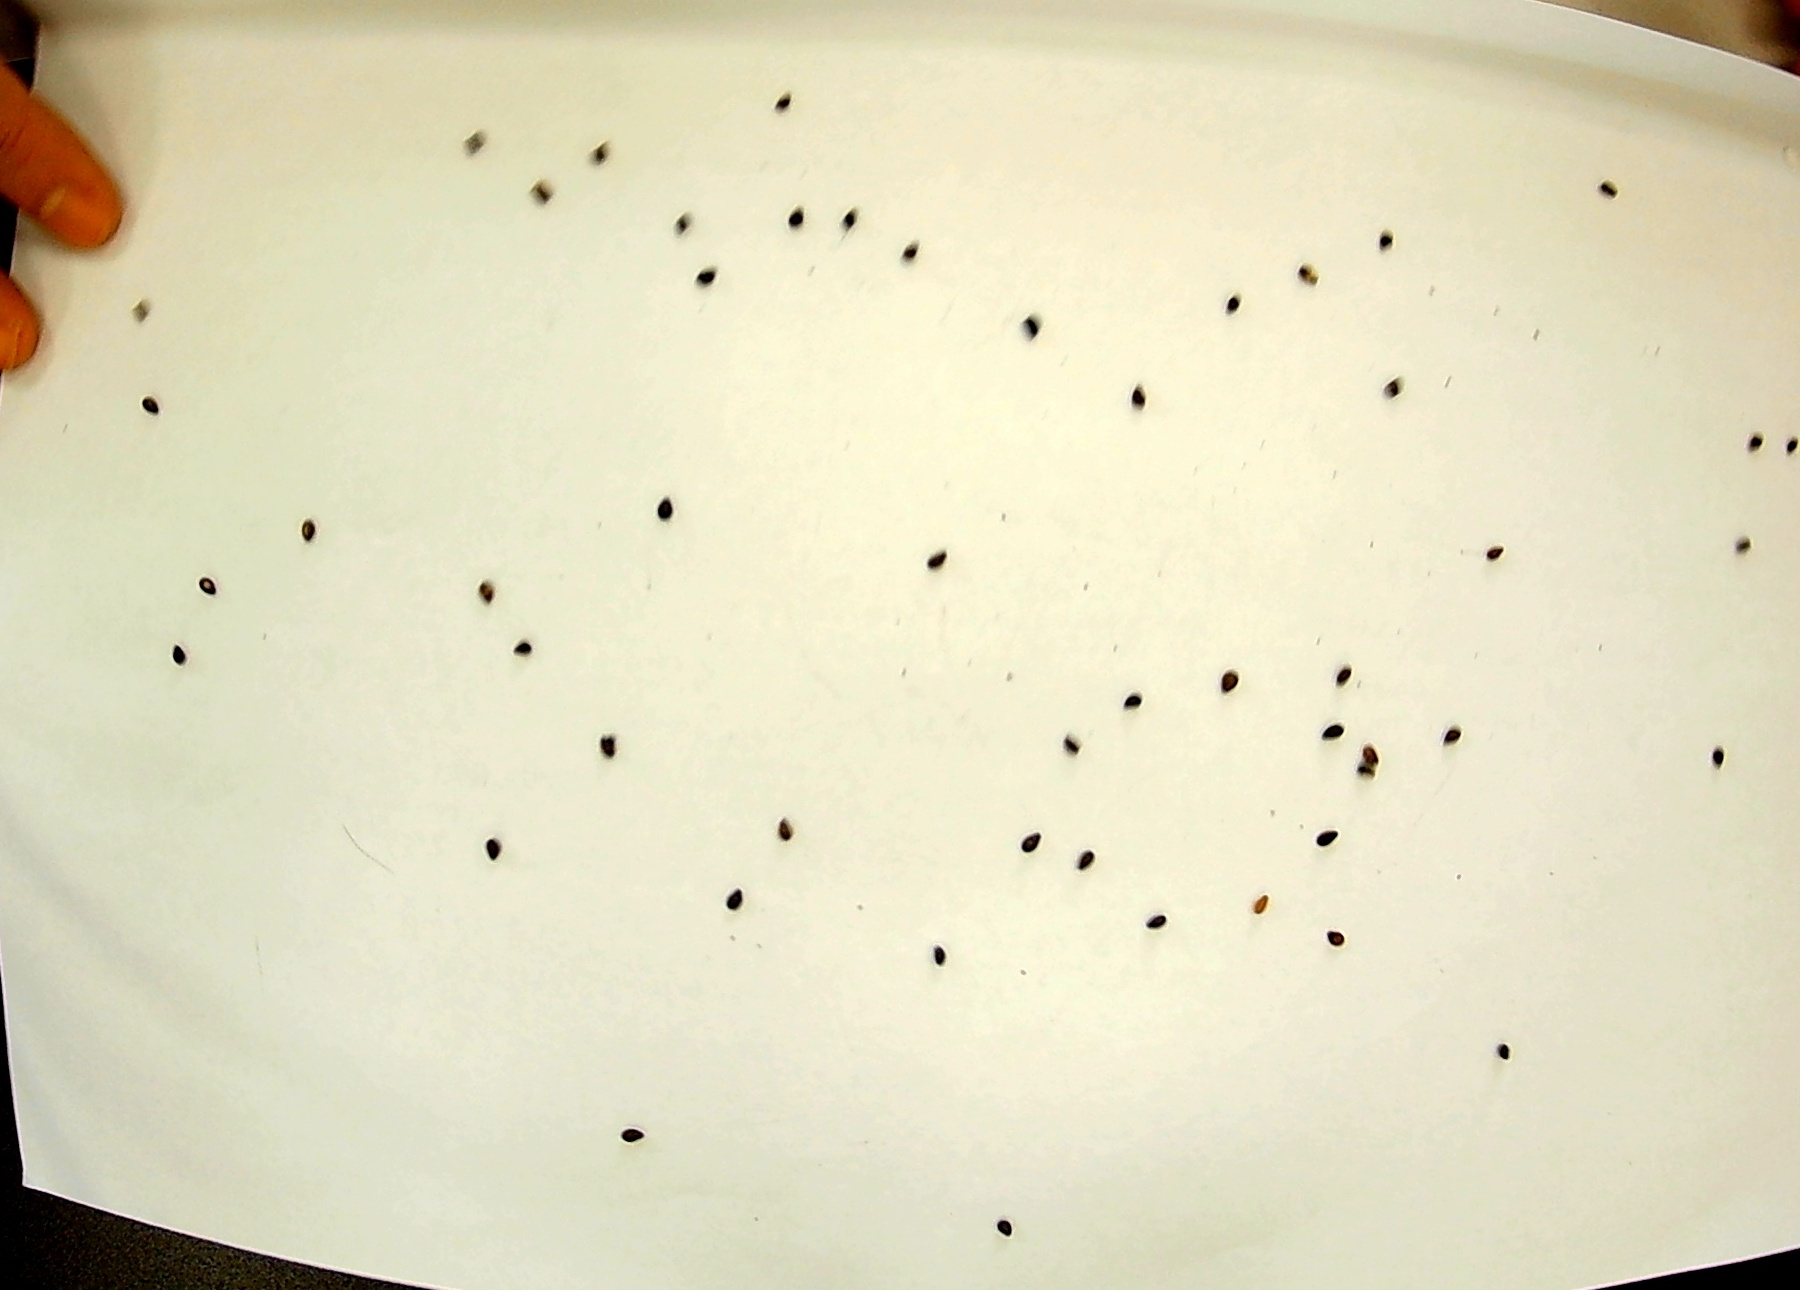sesami: (579, 126, 618, 170), (526, 170, 565, 215), (453, 114, 493, 159), (114, 276, 153, 321), (287, 507, 327, 551), (181, 560, 220, 605), (504, 637, 543, 681), (153, 632, 193, 677), (467, 826, 507, 871), (755, 807, 794, 852), (723, 875, 762, 920), (914, 941, 953, 986), (1051, 722, 1090, 766), (1588, 151, 1627, 195), (1360, 364, 1400, 409), (1373, 209, 1412, 254), (1213, 283, 1252, 328), (907, 230, 946, 275), (766, 80, 805, 124), (781, 200, 820, 244), (664, 200, 703, 244), (915, 533, 954, 578), (1469, 533, 1508, 578), (1307, 715, 1347, 759), (987, 1215, 1026, 1259), (126, 378, 165, 422), (592, 727, 631, 771), (608, 1115, 647, 1159), (1014, 820, 1053, 863), (1065, 846, 1104, 889), (1101, 681, 1140, 725), (1210, 660, 1249, 704), (1312, 656, 1351, 699), (1447, 716, 1486, 759), (1700, 737, 1739, 780), (1723, 515, 1762, 558), (1734, 415, 1773, 458), (1761, 420, 1800, 464), (1289, 261, 1328, 304), (1119, 378, 1158, 422), (1019, 309, 1058, 352), (681, 247, 720, 290), (645, 491, 684, 535), (1355, 723, 1394, 766), (1300, 813, 1340, 856), (1312, 919, 1351, 962), (1480, 1023, 1520, 1067), (1139, 905, 1178, 948), (465, 577, 502, 621), (825, 197, 862, 242), (1351, 761, 1388, 806), (1252, 868, 1289, 913)
